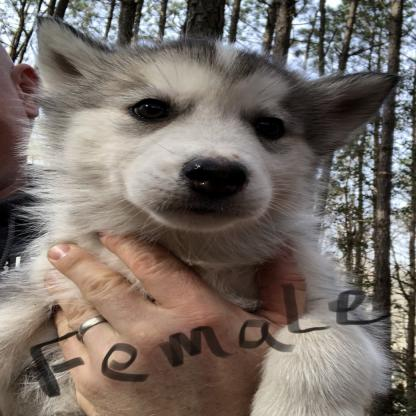husky: (0, 21, 402, 416)
